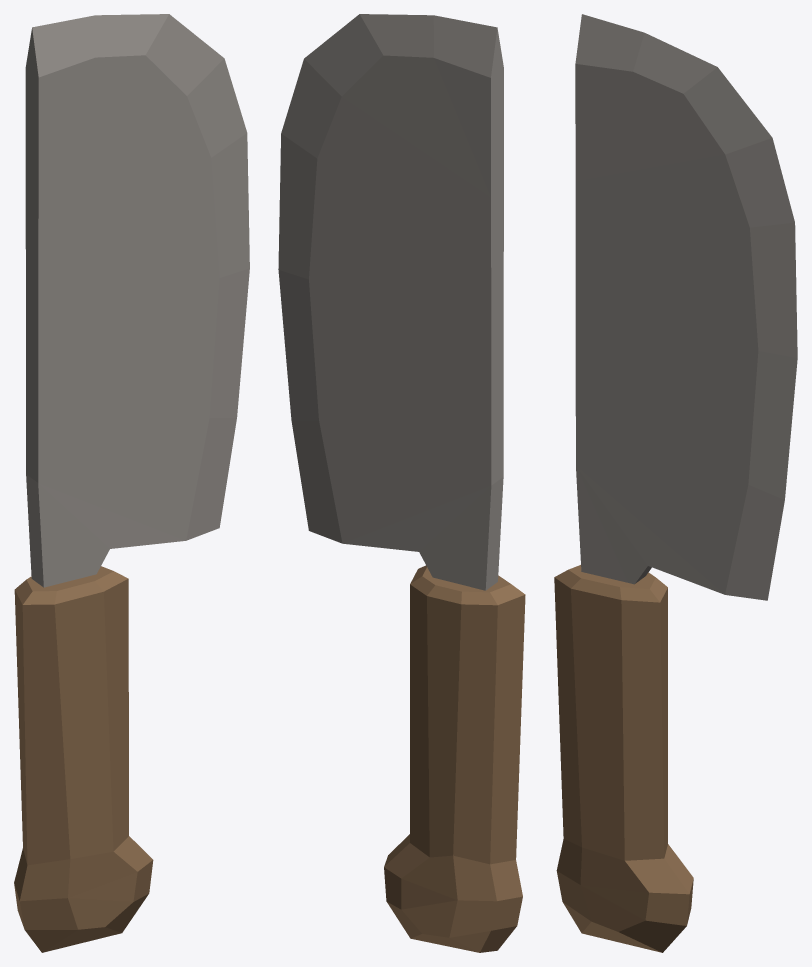
Rendered from SM_pwe_gauls_knife_02.fbx.
3 views of the same model, side by side, from view 1: azimuth 30°, elevation 25°; view 2: azimuth 150°, elevation 25°; view 3: azimuth 330°, elevation 25° (orthographic).
Visible parts, largest first — view 1: SM_pwe_gauls_knife_02; view 2: SM_pwe_gauls_knife_02; view 3: SM_pwe_gauls_knife_02.
Part boxes in pixels (x1,y1,x2,y2): SM_pwe_gauls_knife_02: (14,14,249,952); SM_pwe_gauls_knife_02: (278,14,525,952); SM_pwe_gauls_knife_02: (554,14,797,952).
Bounding box in the file's own units: 10.65 × 39.69 × 3.07.
